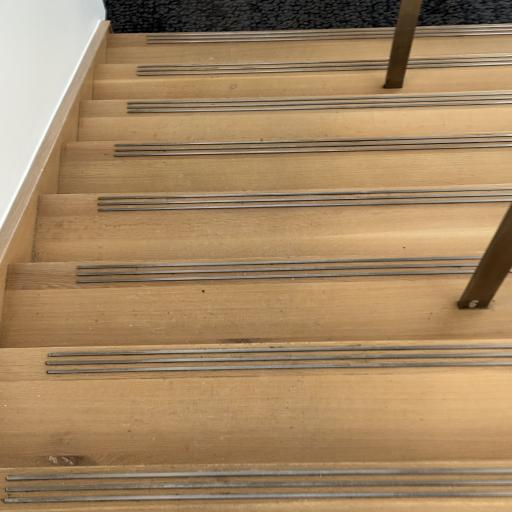Stairs: (0, 25, 512, 512)
